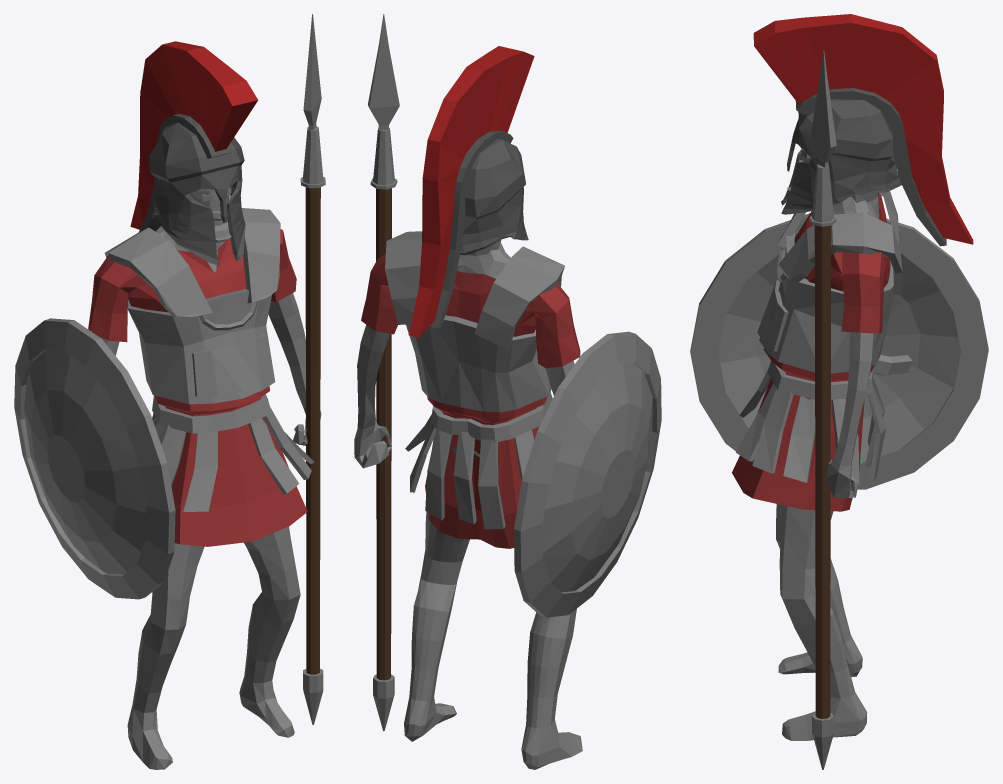
Rendered from SM_statue_01.fbx.
The picture shows the model from 3 angles, left to right: view 1: azimuth 30°, elevation 25°; view 2: azimuth 150°, elevation 25°; view 3: azimuth 270°, elevation 25°; orthographic projection.
Visible parts, largest first — view 1: Line012; view 2: Line012; view 3: Line012.
Boxes of the visible parts, x1,y1,x2,y2 form: Line012: [14, 14, 325, 769]; Line012: [354, 14, 661, 769]; Line012: [690, 14, 988, 769].
Bounding box in the file's own units: 32.65 × 85.83 × 32.29.
